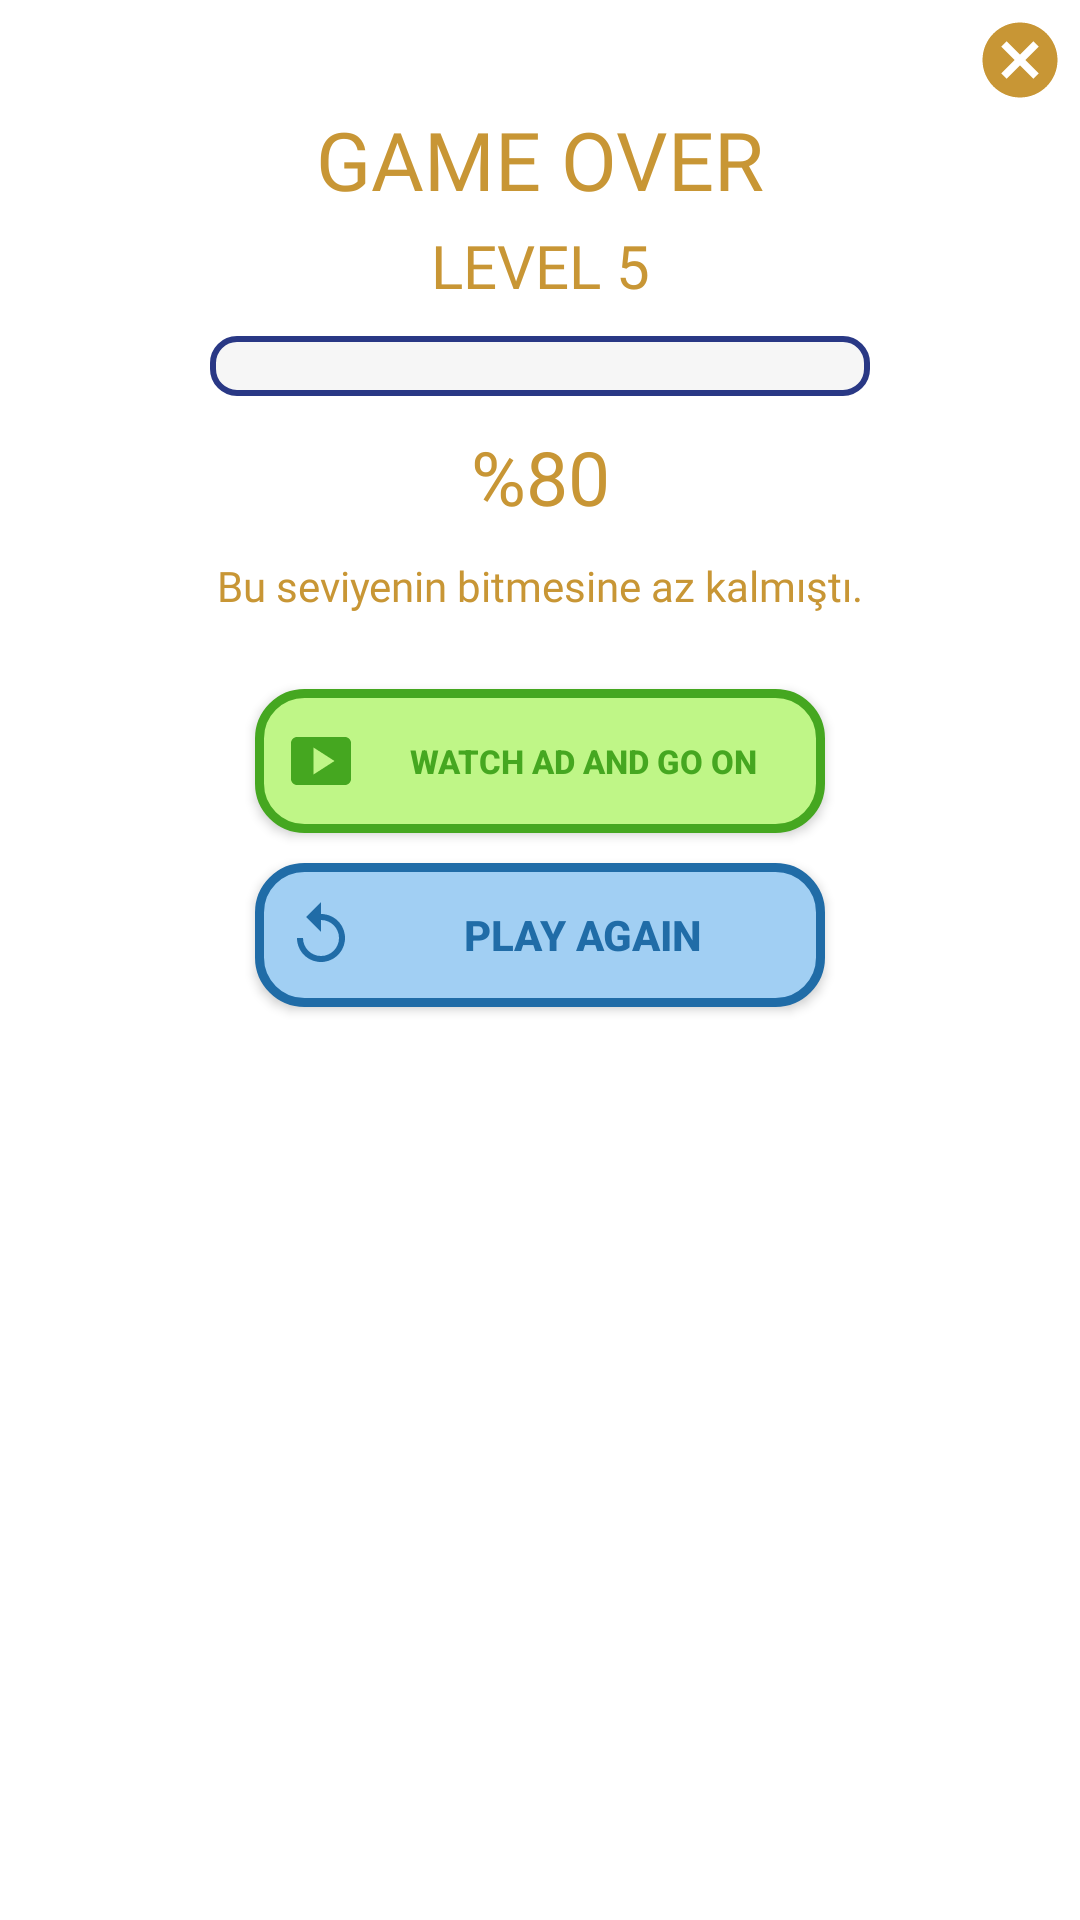

Screen size 1080×1920. Icon name, then its box in pixels as (x1, y1, x2, y2):
cancel: (982, 22, 1058, 98)
